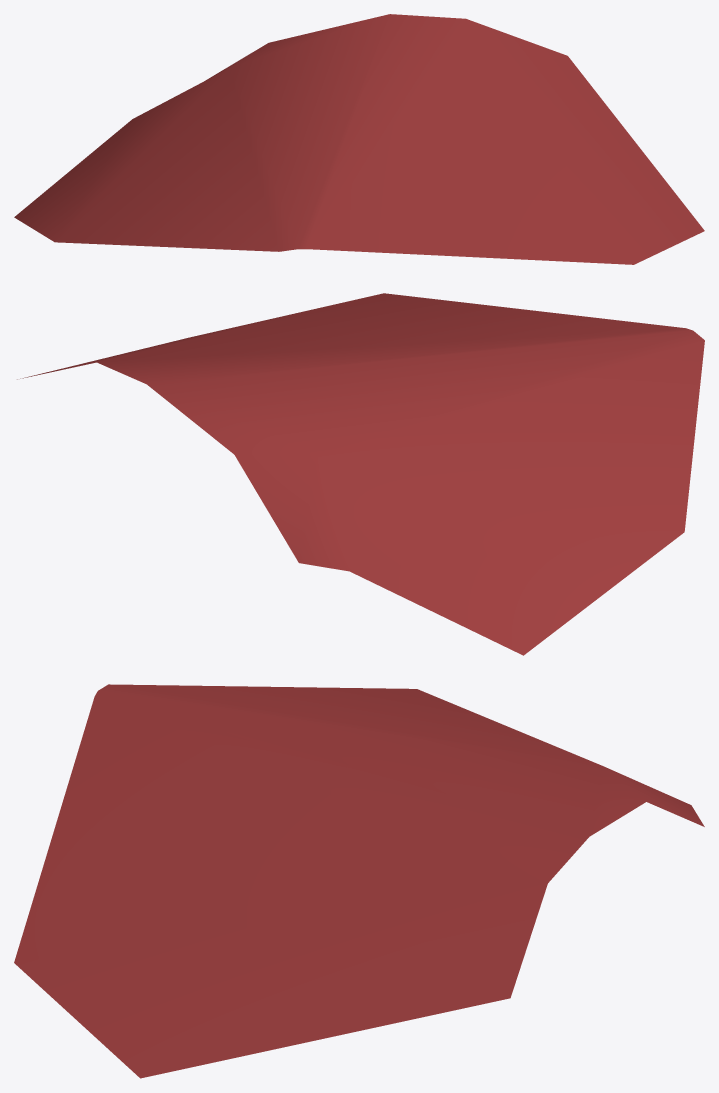
Rendered from extensor-digitorum-longus-e4r.glb.
The picture shows the model from 3 angles, top to bottom: view 1: azimuth 30°, elevation 25°; view 2: azimuth 150°, elevation 25°; view 3: azimuth 270°, elevation 25°; orthographic projection. The views are drawn at different scales.
Visible parts, largest first — view 1: Extensor digitorum longus.e4r; view 2: Extensor digitorum longus.e4r; view 3: Extensor digitorum longus.e4r.
Boxes of the visible parts, left/top/right/bottom form: Extensor digitorum longus.e4r: left=14, top=14, right=704, bottom=264; Extensor digitorum longus.e4r: left=17, top=293, right=704, bottom=655; Extensor digitorum longus.e4r: left=14, top=684, right=704, bottom=1078.
Size of the model in its own units: 0.00296 by 0.000691 by 0.00253.
